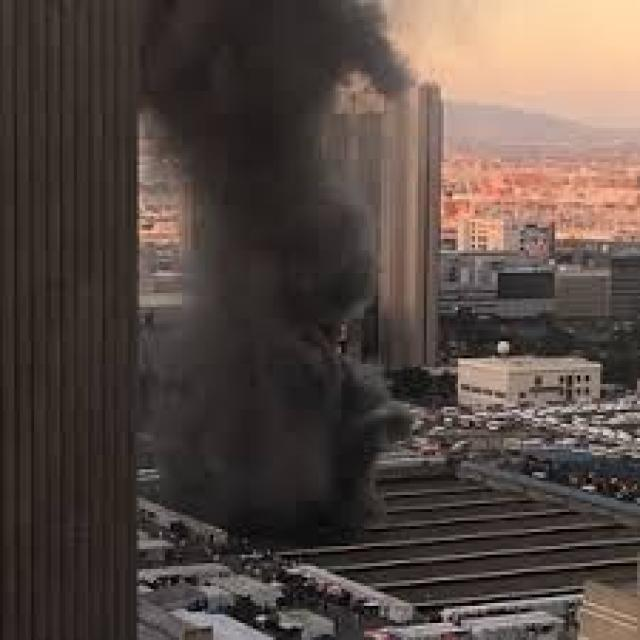Smoke: (139, 0, 422, 556)
